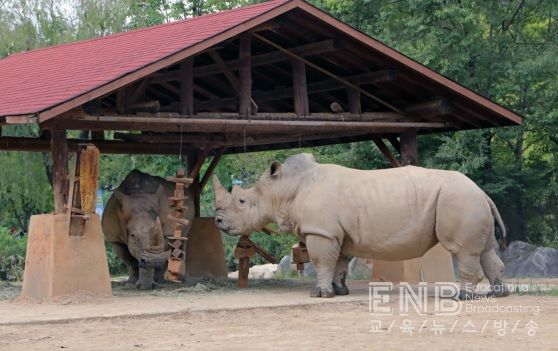Rhinoceros: (205, 149, 514, 299)
